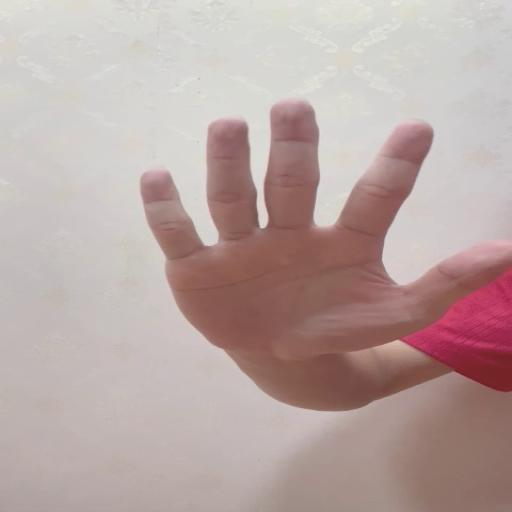open_palm: (139, 97, 512, 356)
